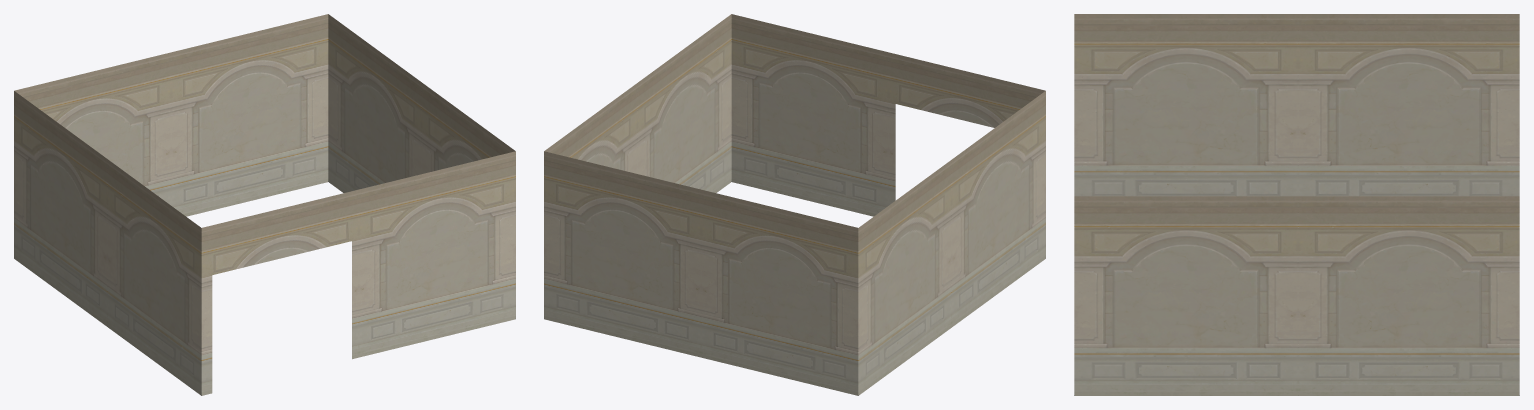
File: Homeworld_Interior_Fd_Room_N_Filling_01_Vo.fbx
3 renders of one model, left to right at view 1: azimuth 30°, elevation 25°; view 2: azimuth 150°, elevation 25°; view 3: azimuth 270°, elevation 25°, orthographic. The views are drawn at different scales.
Visible parts, largest first — view 1: Homeworld_Interior_Fd_Room_N_Filling_01_Vo; view 2: Homeworld_Interior_Fd_Room_N_Filling_01_Vo; view 3: Homeworld_Interior_Fd_Room_N_Filling_01_Vo.
Part boxes in pixels (x1,y1,x2,y2): Homeworld_Interior_Fd_Room_N_Filling_01_Vo: (14,14,515,395); Homeworld_Interior_Fd_Room_N_Filling_01_Vo: (544,14,1045,395); Homeworld_Interior_Fd_Room_N_Filling_01_Vo: (1074,14,1519,395).
Bounding box in the file's own units: 9.75 × 4.98 × 10.07.
1 material, 1 textured.
